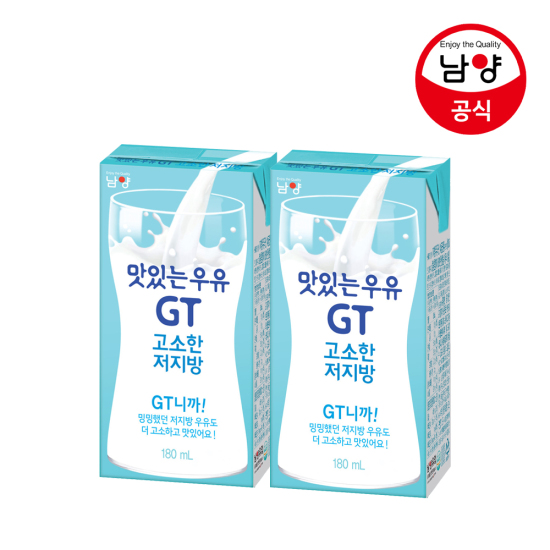milk: (98, 143, 453, 499)
